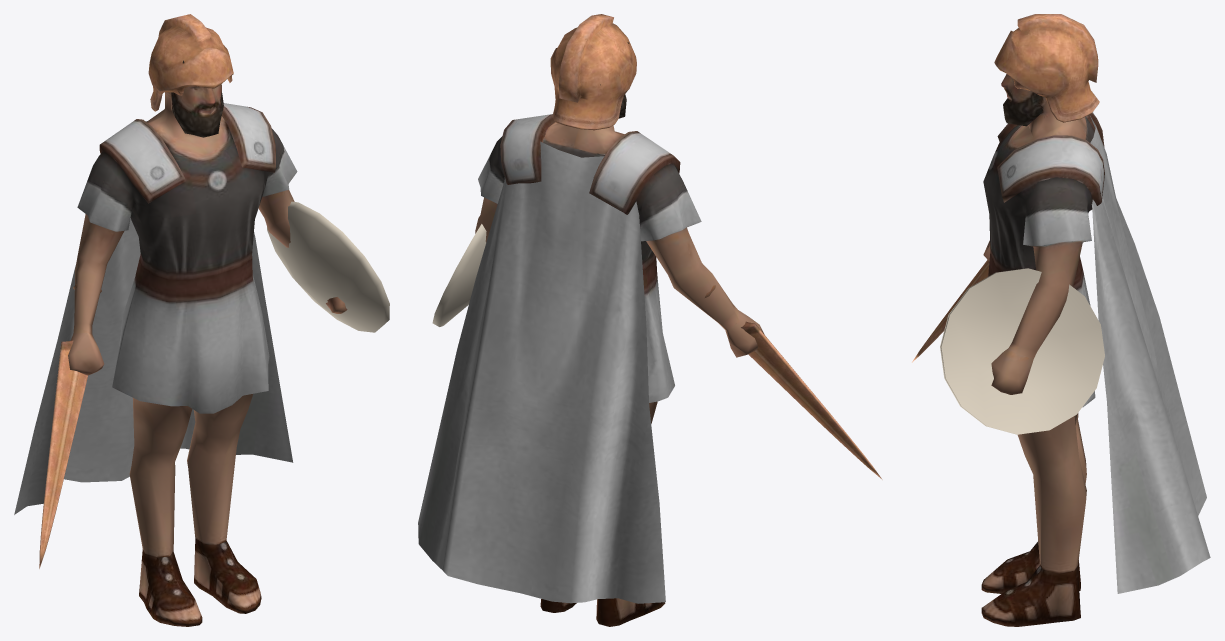
File: 4-hypaspist.glb
The picture shows the model from 3 angles, left to right: view 1: azimuth 30°, elevation 25°; view 2: azimuth 150°, elevation 25°; view 3: azimuth 270°, elevation 25°; orthographic projection.
Bounding box in the file's own units: 1.47 × 2.14 × 0.9908.
Materials: 4 (3 with a texture image).
